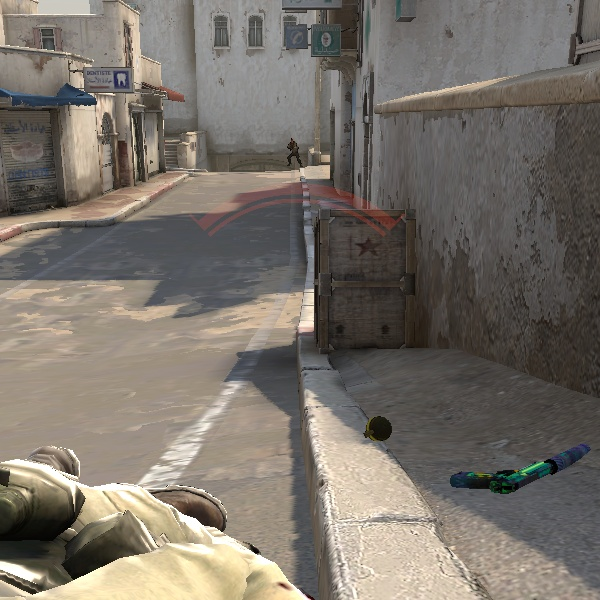t_body: (286, 138, 303, 167)
t_head: (290, 138, 294, 143)
